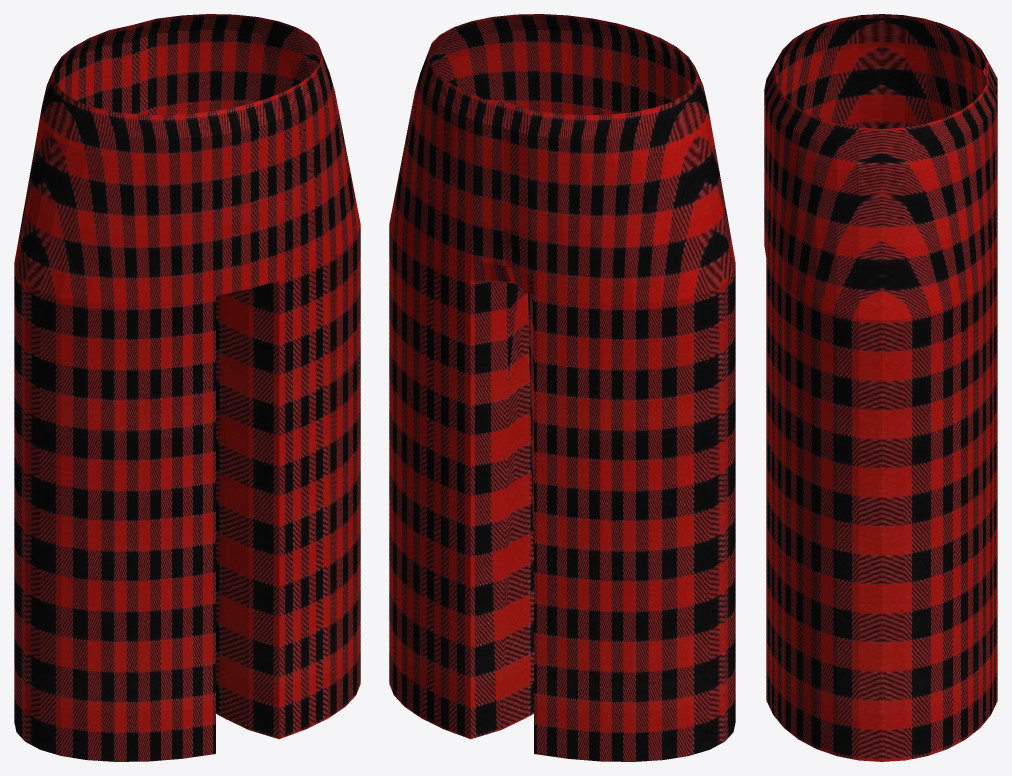
The model's file is plaidpants.glb.
The picture shows the model from 3 angles, left to right: view 1: azimuth 30°, elevation 25°; view 2: azimuth 150°, elevation 25°; view 3: azimuth 270°, elevation 25°; orthographic projection. The views are drawn at different scales.
Visible parts, largest first — view 1: Cylinder; view 2: Cylinder; view 3: Cylinder.
Part boxes in pixels (x1,y1,x2,y2): Cylinder: (14,14,360,761); Cylinder: (389,14,735,761); Cylinder: (764,14,997,761).
Size of the model in its own units: 2 by 3.76 by 1.3.
Materials: 1 (1 with a texture image).
